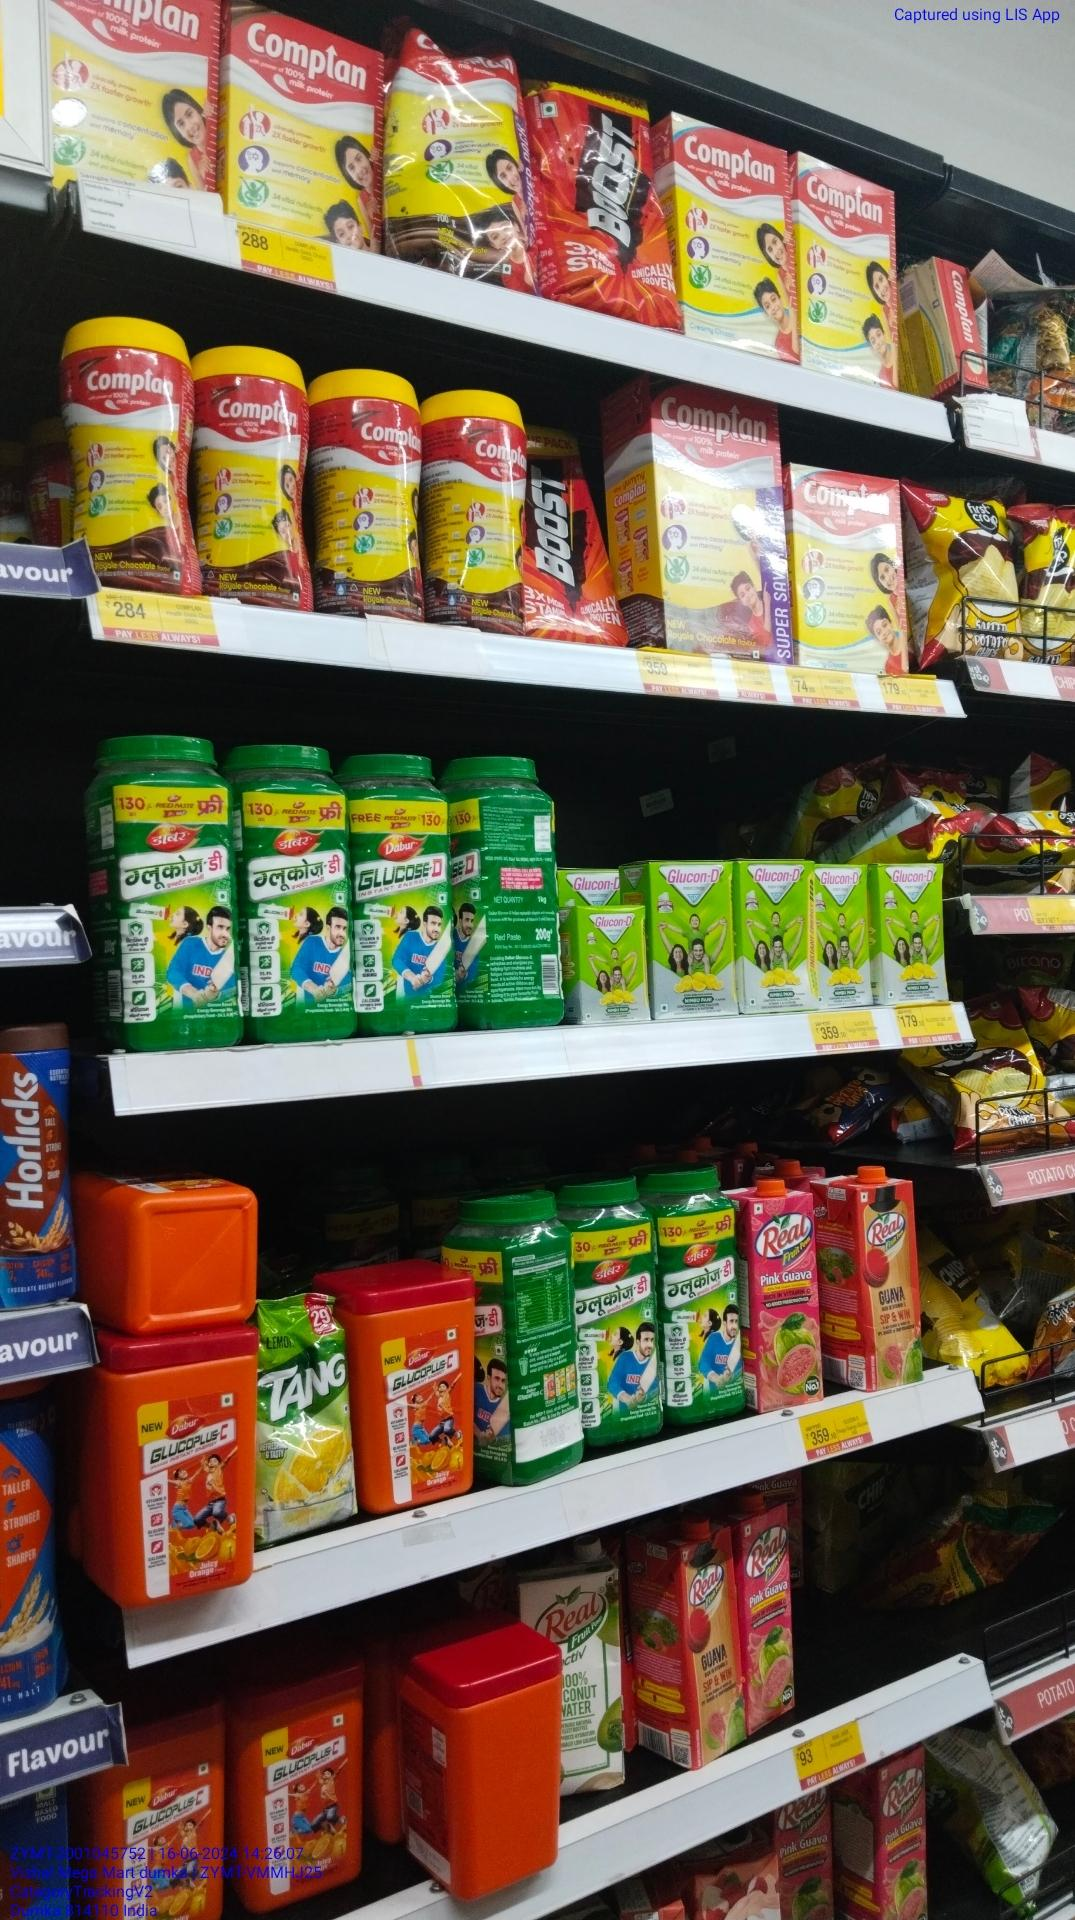COMPLAN_CHOCOLATE_500_GMS_JAR: (67, 311, 191, 601), (200, 347, 315, 605), (426, 386, 534, 633), (322, 363, 421, 612)
COMPLAN_CREAMY_CLASSIC_500_G_PACK: (789, 462, 913, 671)
COMPLAN_RC_POUCH_700_GMS_12: (401, 28, 541, 273)
